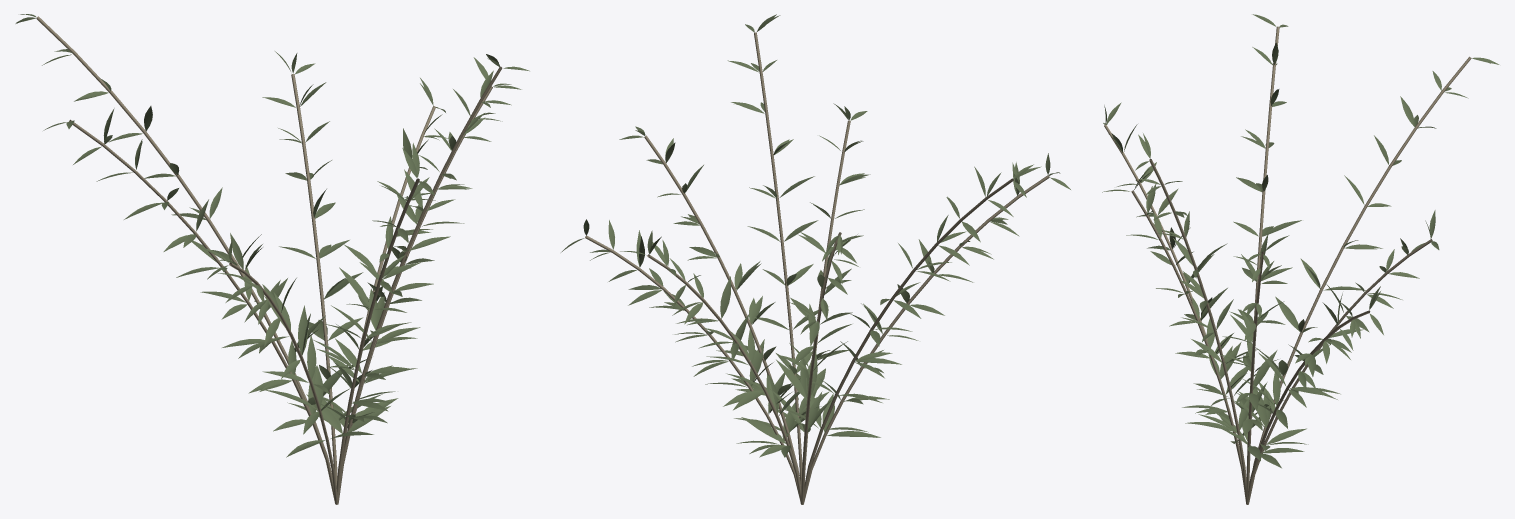
The model's file is olive-2.glb.
3 views of the same model, side by side, from view 1: azimuth 30°, elevation 25°; view 2: azimuth 150°, elevation 25°; view 3: azimuth 270°, elevation 25° (orthographic). The views are drawn at different scales.
Visible parts, largest first — view 1: olive-leaves, olive-stems; view 2: olive-leaves, olive-stems; view 3: olive-leaves, olive-stems.
Boxes of the visible parts, x1=… form: olive-leaves: x1=15, y1=14, x2=529, y2=457; olive-stems: x1=36, y1=16, x2=502, y2=504; olive-leaves: x1=561, y1=14, x2=1070, y2=457; olive-stems: x1=585, y1=32, x2=1049, y2=504; olive-leaves: x1=1102, y1=14, x2=1499, y2=468; olive-stems: x1=1104, y1=26, x2=1471, y2=504.
Size of the model in its own units: 0.6154 by 0.6041 by 0.5355.
